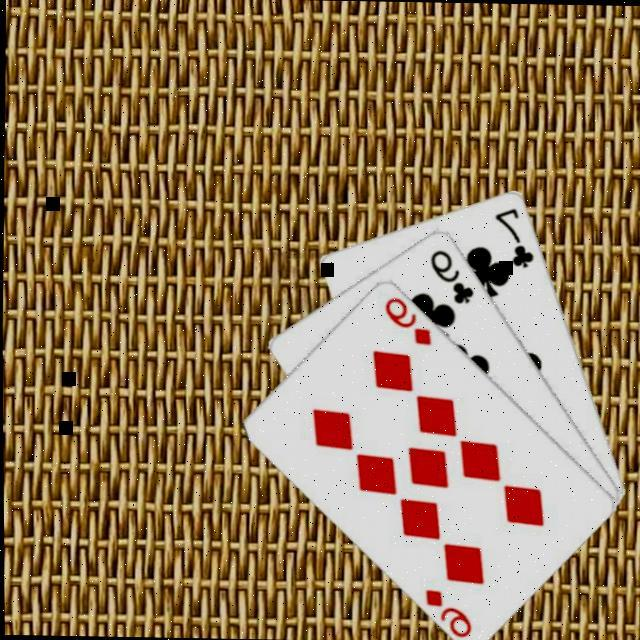7C: (489, 205, 536, 272)
9C: (424, 246, 476, 308)
9D: (379, 294, 433, 349), (418, 586, 472, 640)
